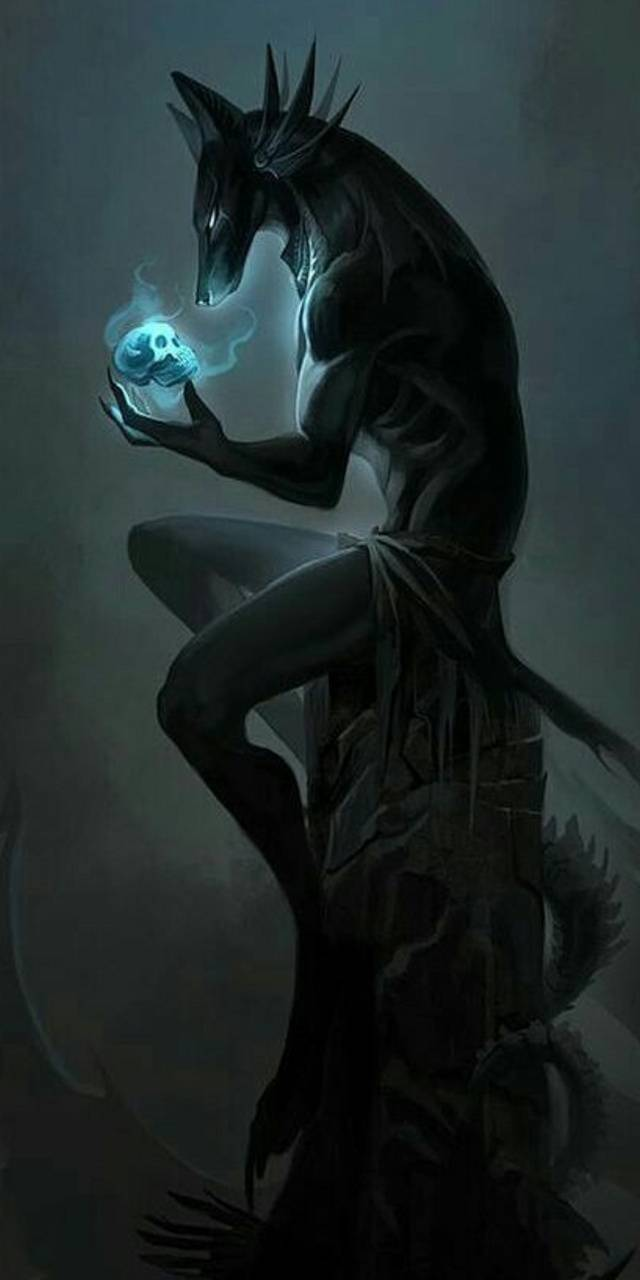Lobo: (158, 50, 433, 422)
